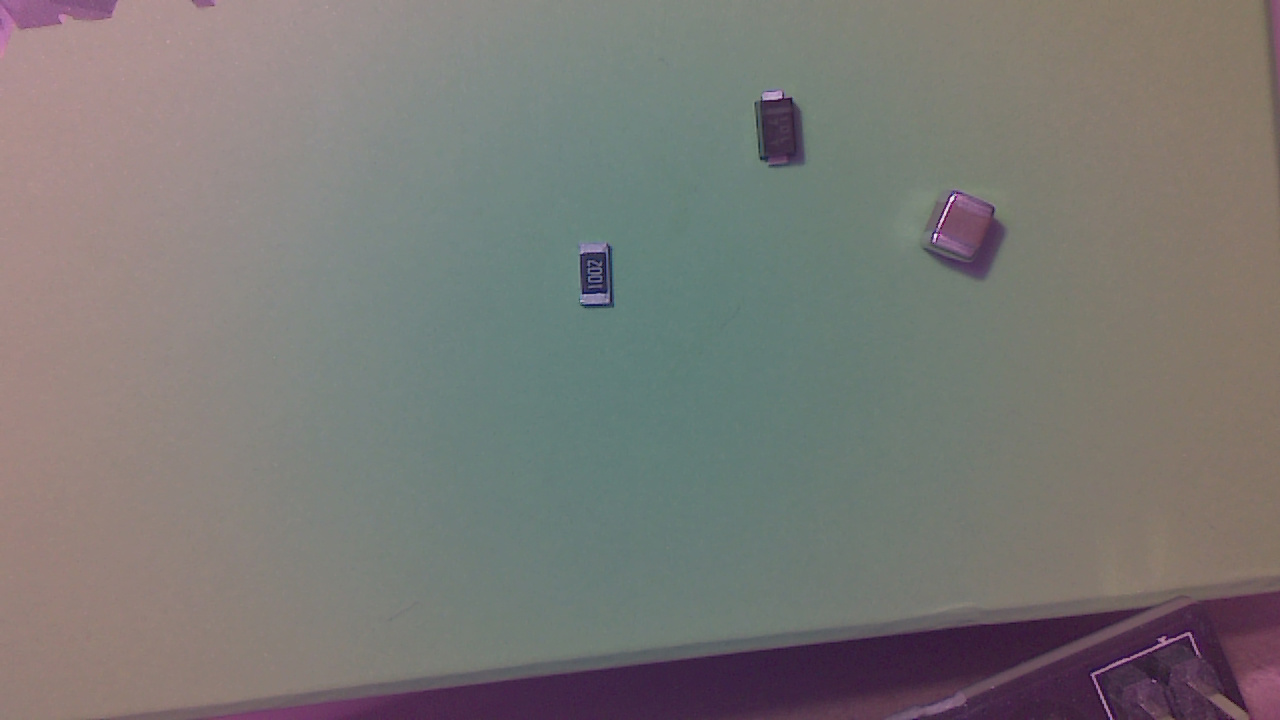Condensator: (927, 196, 1005, 273)
Diode: (759, 93, 803, 172)
Resistor: (581, 247, 620, 315)
